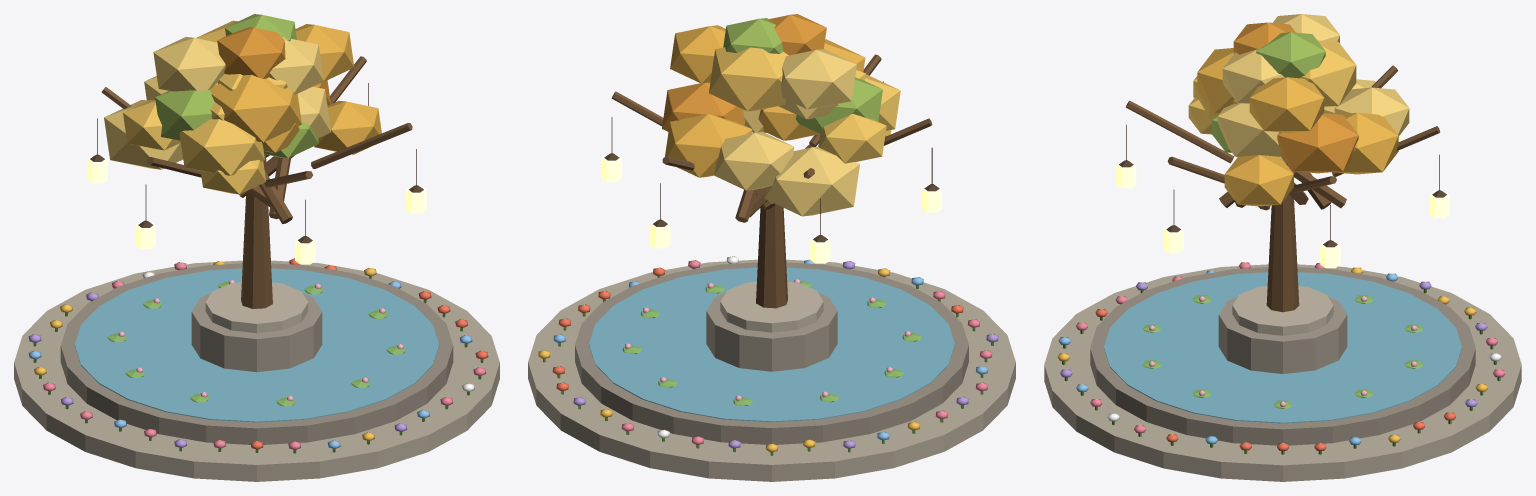
Rendered from centrepiece_lantern_tree.glb.
The picture shows the model from 3 angles, left to right: view 1: azimuth 30°, elevation 25°; view 2: azimuth 150°, elevation 25°; view 3: azimuth 270°, elevation 25°; orthographic projection. The views are drawn at different scales.
Visible parts, largest first — view 1: centrepiece_lantern_tree; view 2: centrepiece_lantern_tree; view 3: centrepiece_lantern_tree.
Boxes of the visible parts, x1,y1,x2,y2 form: centrepiece_lantern_tree: (14, 14, 499, 481); centrepiece_lantern_tree: (528, 14, 1015, 481); centrepiece_lantern_tree: (1044, 14, 1521, 481).
Size of the model in its own units: 5.2 by 4.25 by 5.2.
